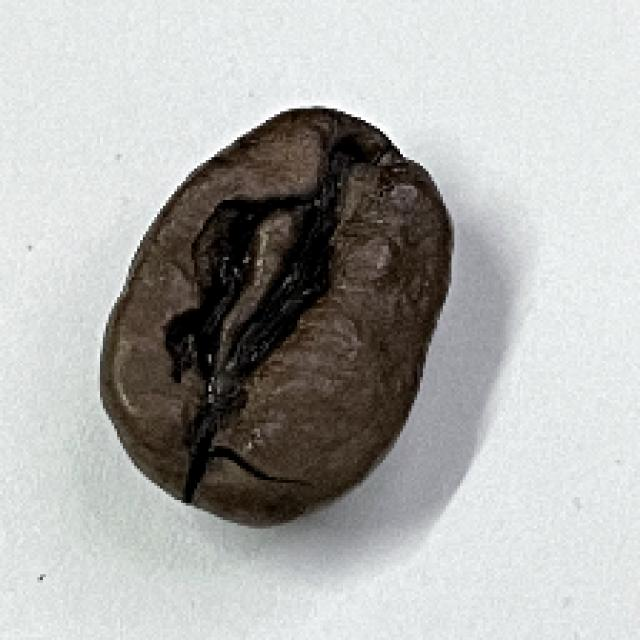bean: (98, 108, 455, 529)
